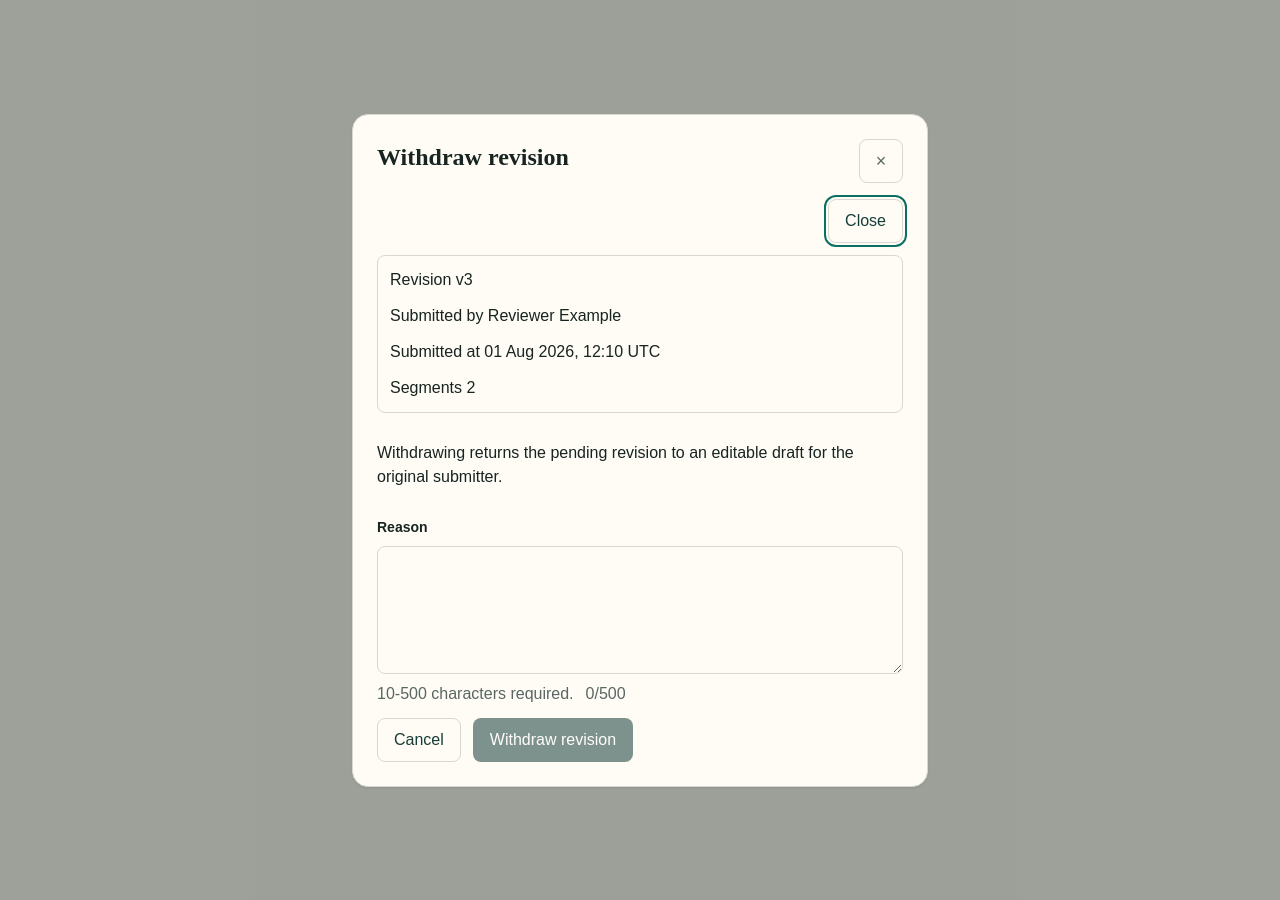
Test: DecisionDialog › requires a 10 to 500 character reason for withdrawal and shows the warning copy
Expected: the text "Withdrawing returns the pending revision to an editable draft for the original submitter." is shown, left=377, top=444, right=854, bottom=484
Expected: the text "0/500" is shown, left=586, top=682, right=626, bottom=706
In the text box labelled "Reason": (640, 610) left=377, top=546, right=903, bottom=674, type "Too short"
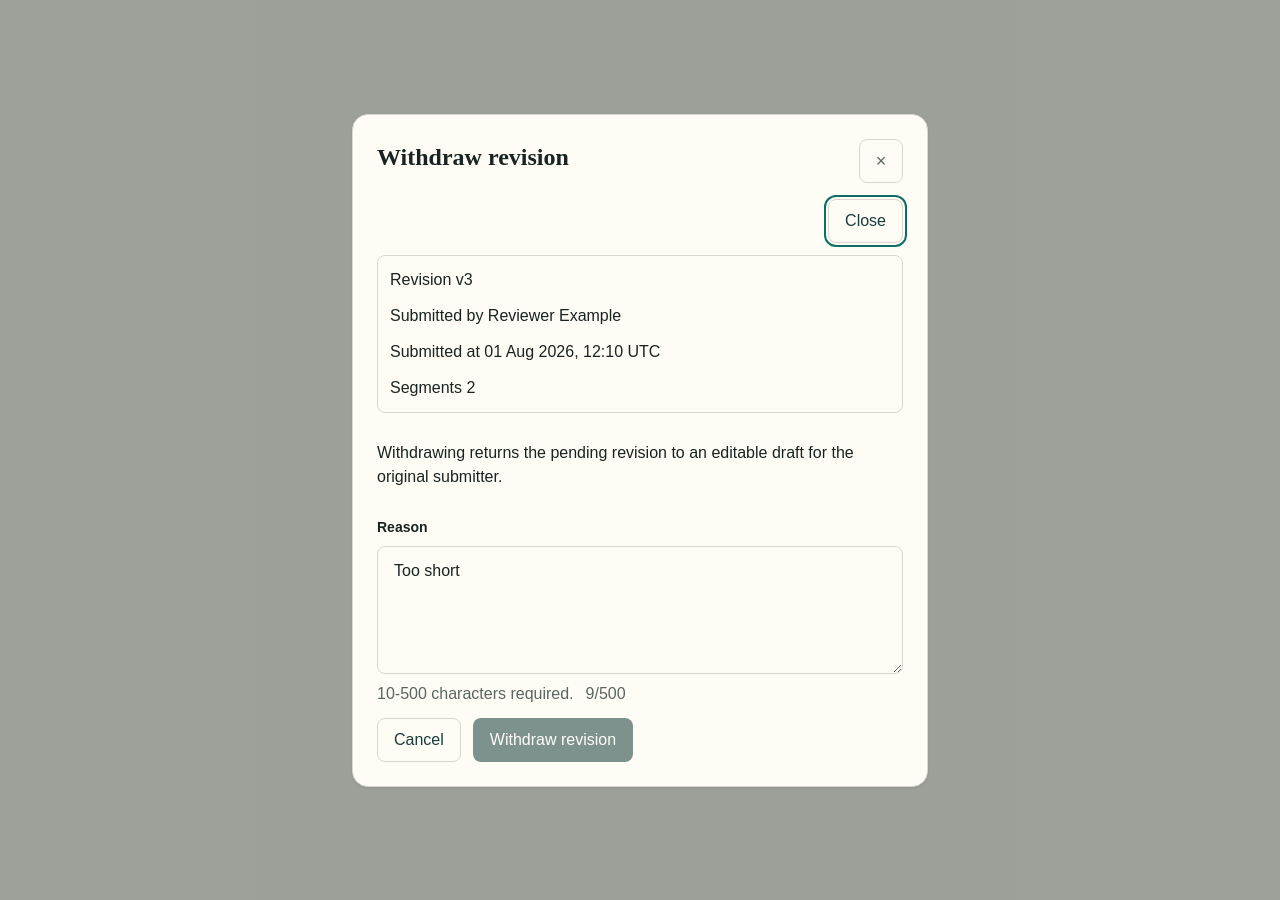
Expected: the button "Withdraw revision" is disabled, left=473, top=718, right=633, bottom=762
Now the text "9/500" is shown, box left=586, top=682, right=626, bottom=706
Replace the text in the text box labelled "Reason" with "Too short reason": (640, 610) left=377, top=546, right=903, bottom=674
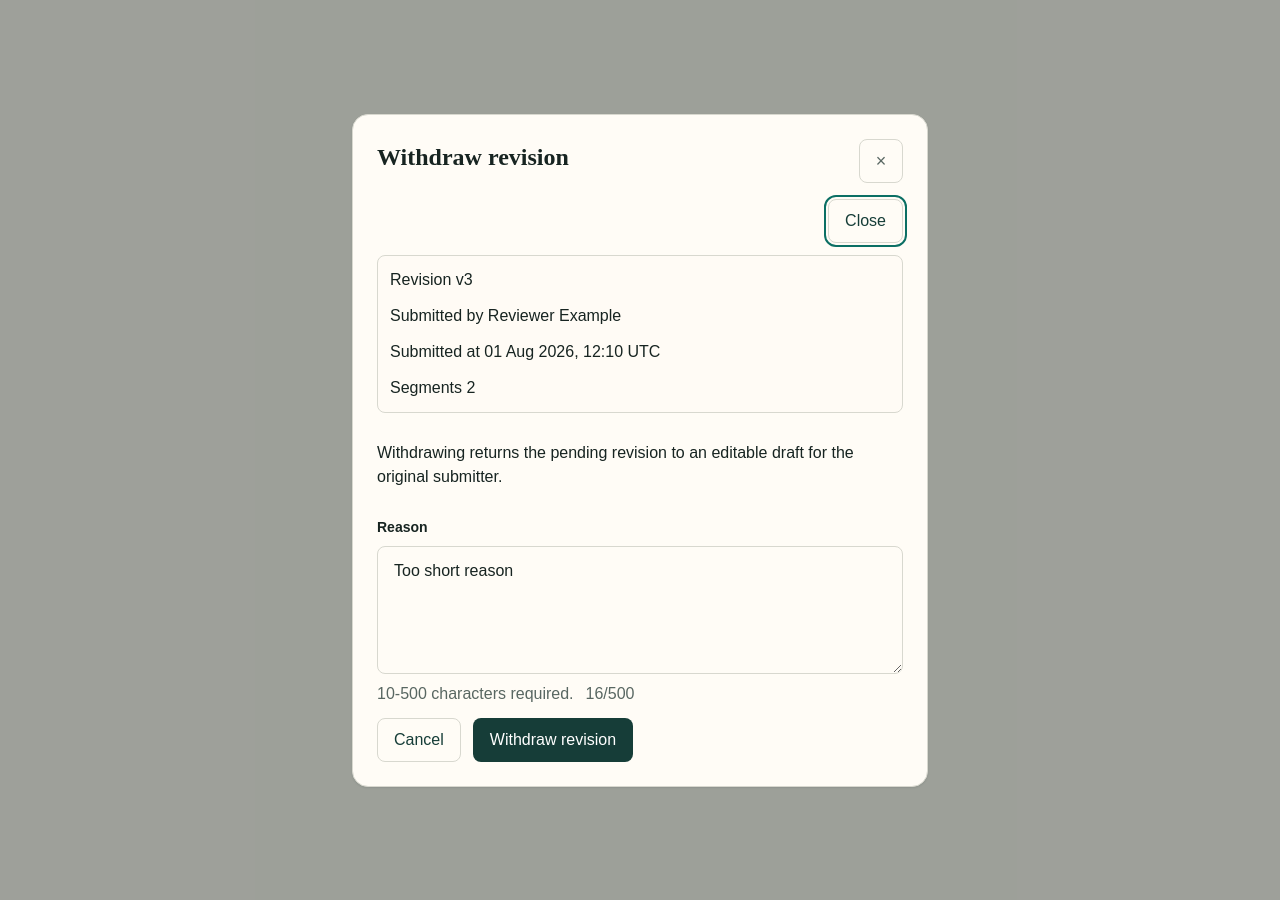
Now the text "16/500" is shown, box left=586, top=682, right=634, bottom=706
Now the button "Withdraw revision" is enabled, box left=473, top=718, right=633, bottom=762
